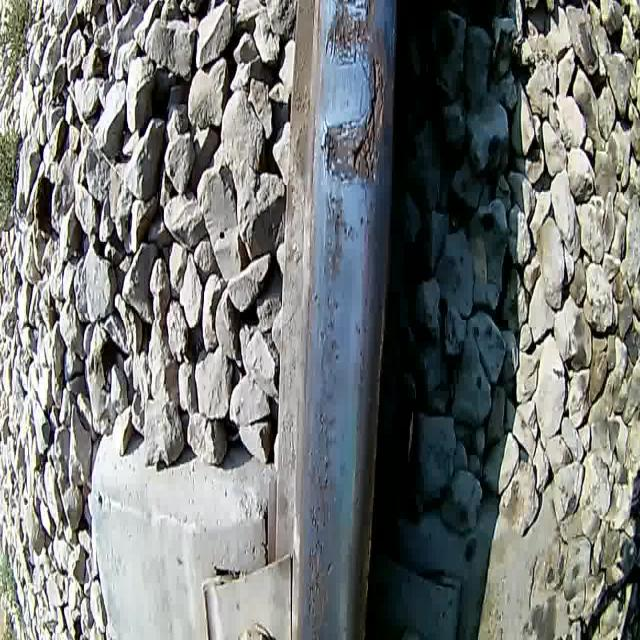Cracks: (350, 54, 387, 185), (320, 19, 360, 66), (320, 110, 338, 180), (336, 107, 370, 138)
Spallings: (323, 0, 375, 65)
Squats: (316, 0, 397, 191), (304, 404, 344, 536), (315, 293, 348, 407), (320, 185, 356, 282), (304, 535, 335, 639)
